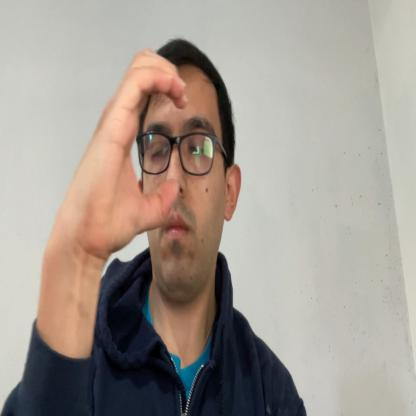C: (101, 48, 188, 250)
